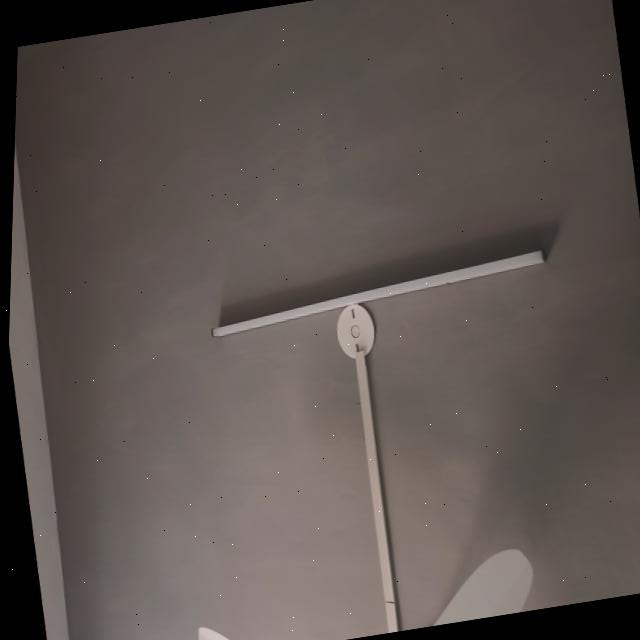fluorescent tube: (195, 221, 563, 370)
